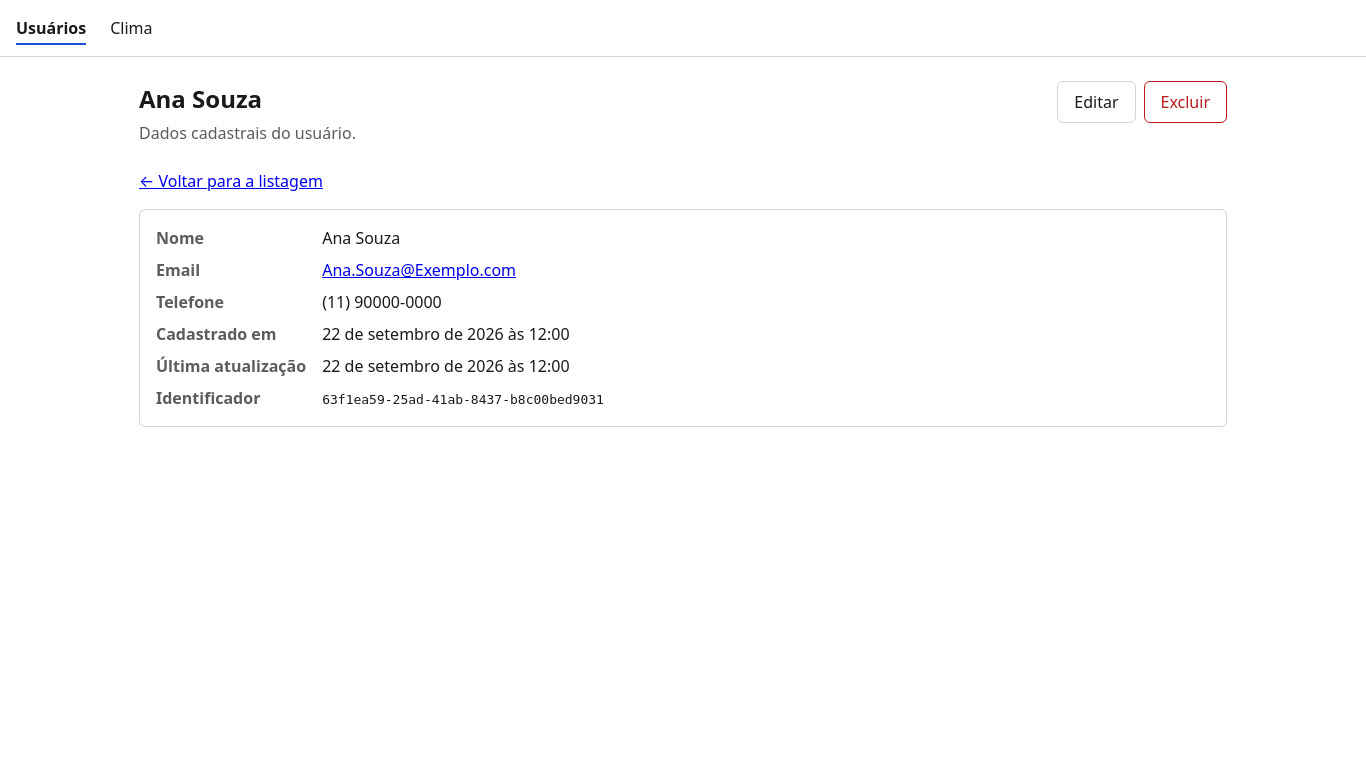
Test: confirmação de exclusão › bloqueia o botão durante a exclusão, evitando duplo envio
Click the button "Excluir". click: (1185,102)
box: [1144,81,1227,123]
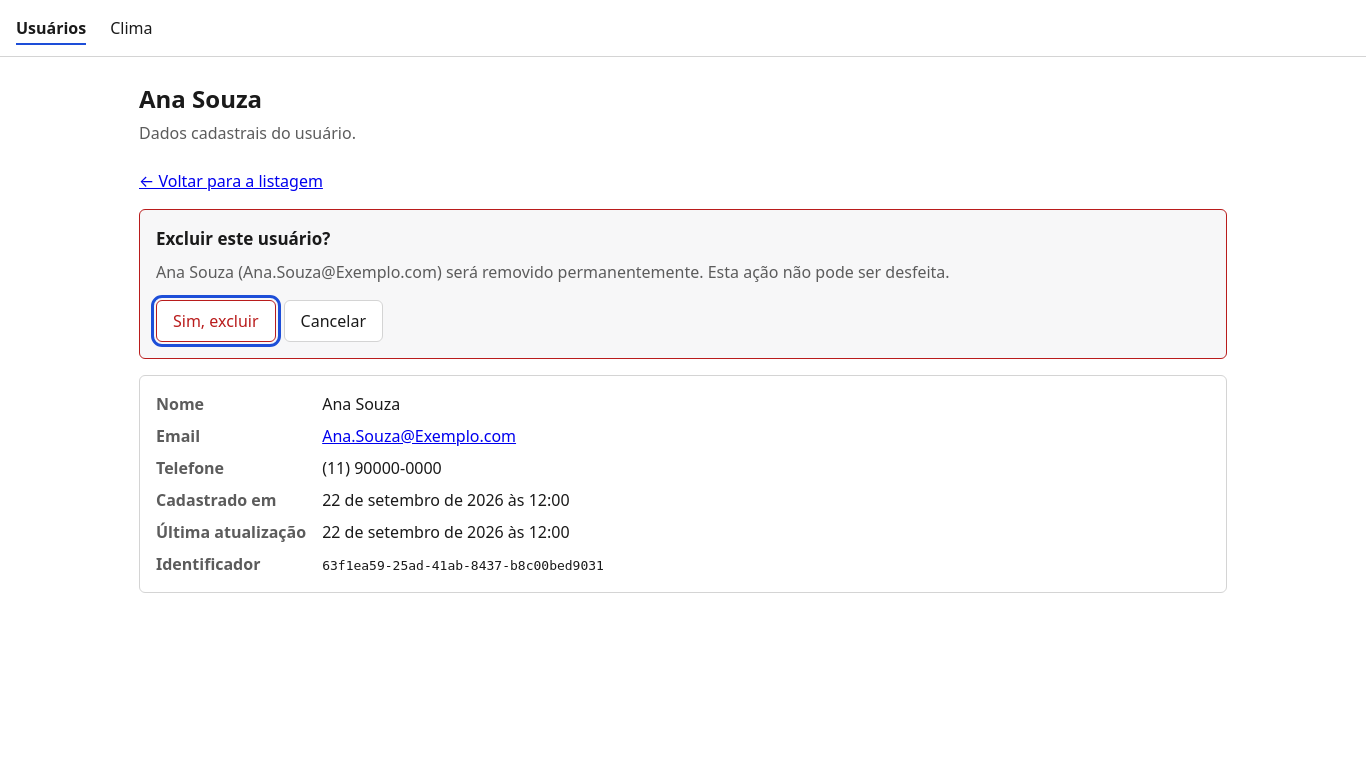
Click the button "Sim, excluir". click: (216,320)
box: [156,300,276,342]
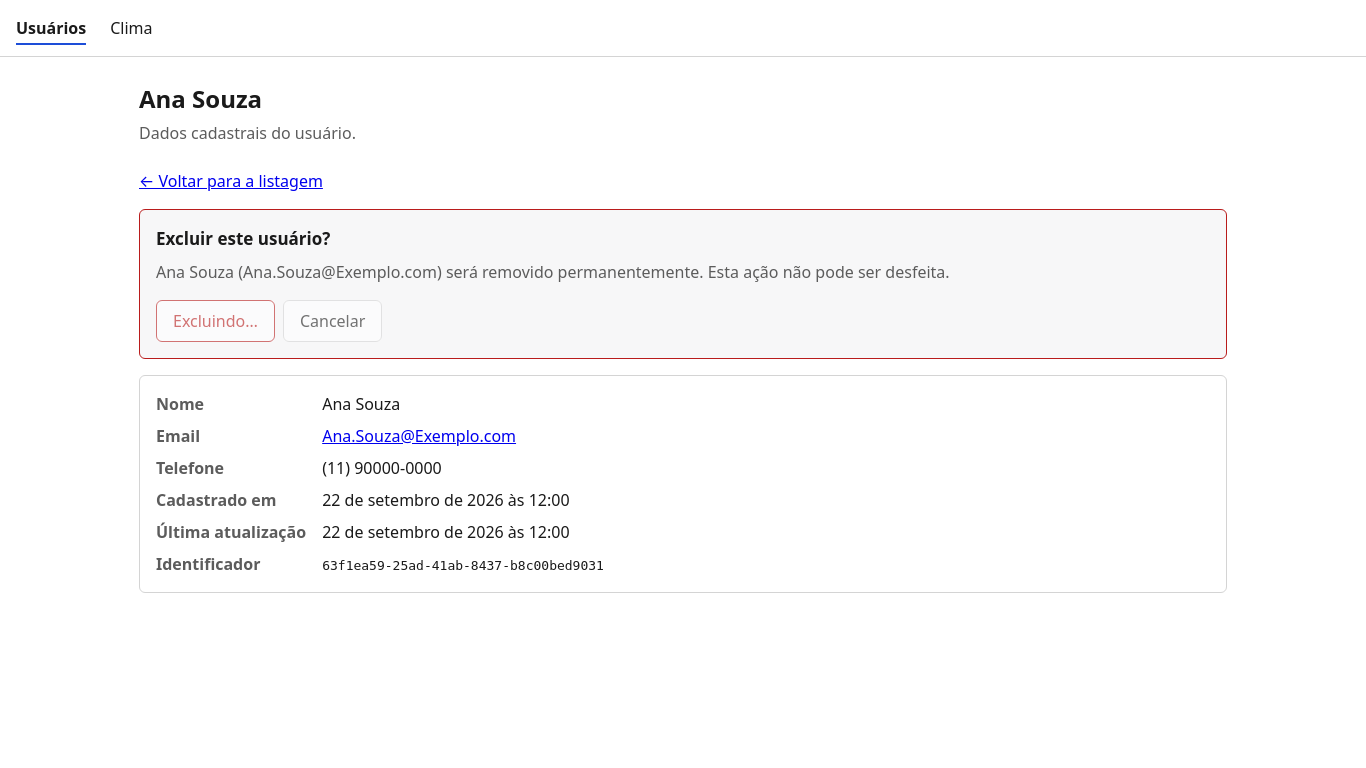
Expected: the button "Excluindo…" is disabled, [156,300,275,342]
